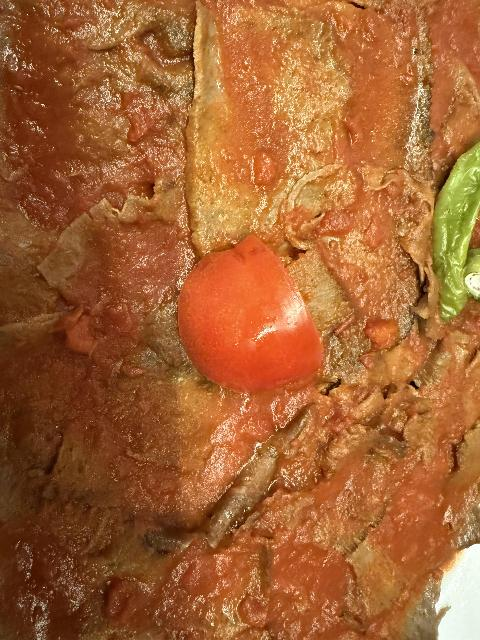Organik: (0, 19, 262, 640), (186, 246, 321, 398), (427, 135, 480, 319)
